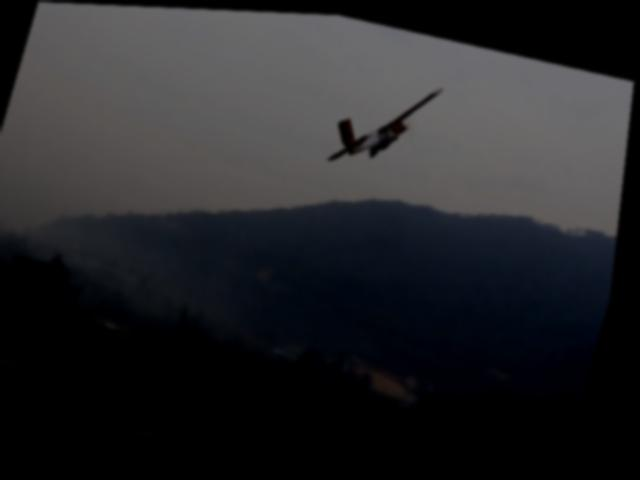plane: (325, 61, 448, 178)
